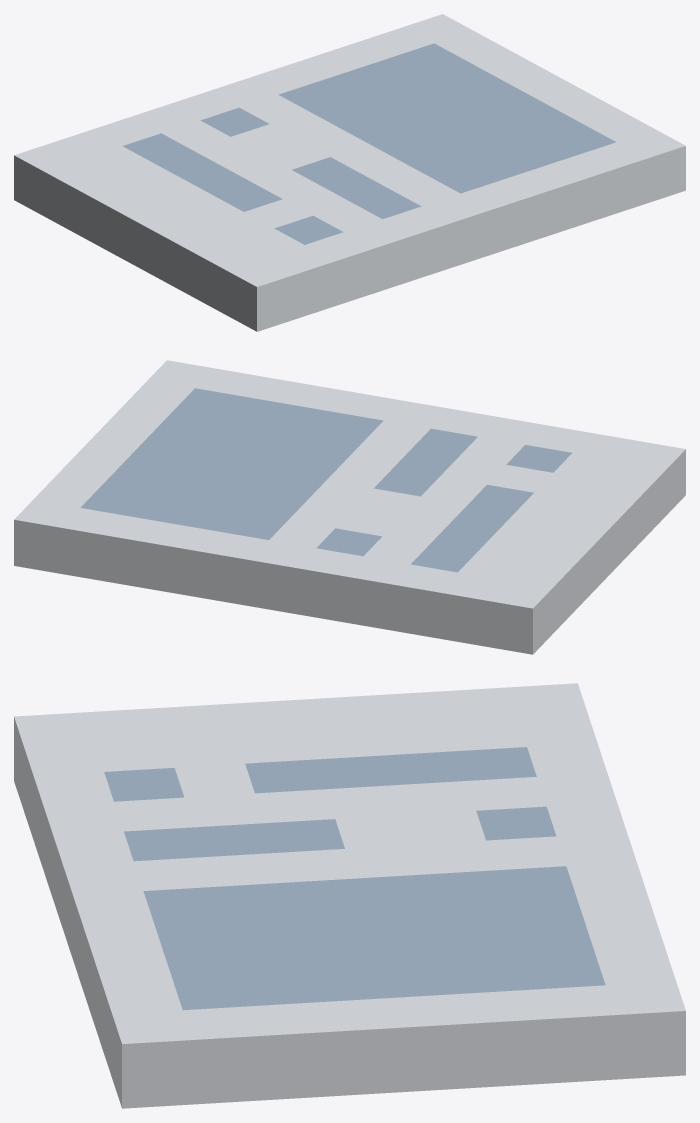
Rendered from papers.003_0_lev1_lev3.glb.
3 views of the same model, one above another, from view 1: azimuth 30°, elevation 25°; view 2: azimuth 150°, elevation 25°; view 3: azimuth 270°, elevation 25° (orthographic). The views are drawn at different scales.
Parts seen in each view (by area): view 1: papers.003_0_lev1_lev3; view 2: papers.003_0_lev1_lev3; view 3: papers.003_0_lev1_lev3.
Boxes of the visible parts, <box> form: papers.003_0_lev1_lev3: <box>14,14,685,331</box>; papers.003_0_lev1_lev3: <box>14,360,685,654</box>; papers.003_0_lev1_lev3: <box>14,683,685,1108</box>.
Size of the model in its own units: 0.5382 by 0.0449 by 0.4236.
Materials: 1 (1 with a texture image).
